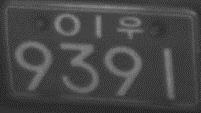0: (53, 11, 81, 37)
1: (152, 46, 183, 100), (88, 13, 110, 39)
3: (59, 40, 99, 94)
9: (103, 44, 142, 97), (14, 38, 52, 91)
우: (116, 14, 144, 40)
